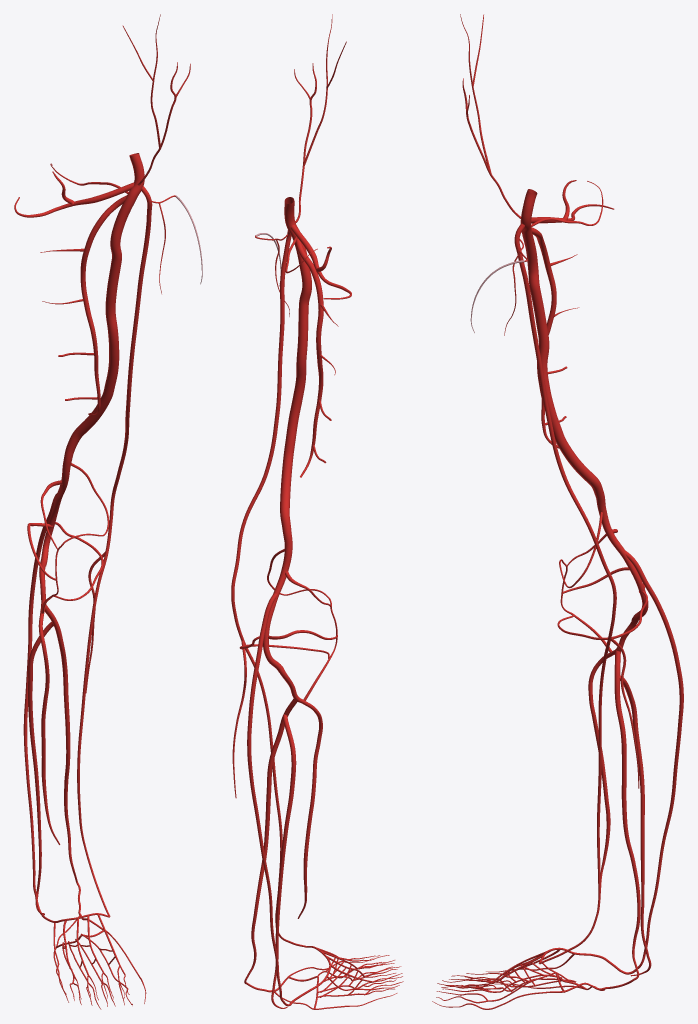
The model's file is circulatorio-femoral-vein-r.glb.
3 views of the same model, side by side, from view 1: azimuth 30°, elevation 25°; view 2: azimuth 150°, elevation 25°; view 3: azimuth 270°, elevation 25° (orthographic). The views are drawn at different scales.
Visible parts, largest first — view 1: Great saphenous vein.r, Femoral vein.r, Small saphenous vein.r, Posterior tibial veins.r, Genicular veins.r, Deep femoral vein.r, Anterior tibial veins.r, Fibular veins.r, Popliteal vein.r, Superficial epigastric vein.r, Lateral circumflex femoral veins.r, Dorsal metatarsal veins.r (+1 smaller); view 2: Great saphenous vein.r, Femoral vein.r, Small saphenous vein.r, Posterior tibial veins.r, Fibular veins.r, Deep femoral vein.r, Genicular veins.r, Popliteal vein.r, Anterior tibial veins.r, Superficial epigastric vein.r, Lateral circumflex femoral veins.r, Plantar digital veins.r (+1 smaller); view 3: Great saphenous vein.r, Femoral vein.r, Small saphenous vein.r, Posterior tibial veins.r, Fibular veins.r, Genicular veins.r, Anterior tibial veins.r, Popliteal vein.r, Superficial epigastric vein.r, Deep femoral vein.r, Plantar digital veins.r.
Boxes of the visible parts, x1,y1,x2,y2 form: Great saphenous vein.r: [77, 186, 152, 916]; Femoral vein.r: [78, 153, 144, 433]; Small saphenous vein.r: [23, 493, 56, 915]; Posterior tibial veins.r: [45, 604, 80, 914]; Genicular veins.r: [27, 463, 109, 613]; Deep femoral vein.r: [80, 195, 126, 415]; Anterior tibial veins.r: [38, 565, 60, 844]; Fibular veins.r: [28, 621, 53, 911]; Popliteal vein.r: [40, 426, 84, 565]; Superficial epigastric vein.r: [122, 14, 190, 185]; Lateral circumflex femoral veins.r: [14, 171, 134, 217]; Dorsal metatarsal veins.r: [53, 913, 120, 976]; Great saphenous vein.r: [231, 230, 306, 947]; Femoral vein.r: [280, 197, 311, 508]; Small saphenous vein.r: [247, 593, 309, 1006]; Posterior tibial veins.r: [244, 698, 297, 992]; Fibular veins.r: [271, 714, 296, 1008]; Deep femoral vein.r: [295, 238, 323, 477]; Genicular veins.r: [239, 549, 337, 701]; Popliteal vein.r: [263, 507, 292, 672]; Anterior tibial veins.r: [279, 670, 322, 918]; Superficial epigastric vein.r: [294, 14, 346, 222]; Lateral circumflex femoral veins.r: [291, 225, 351, 299]; Plantar digital veins.r: [314, 958, 403, 1009]; Great saphenous vein.r: [514, 223, 639, 964]; Femoral vein.r: [520, 189, 594, 482]; Small saphenous vein.r: [605, 550, 683, 974]; Posterior tibial veins.r: [607, 650, 640, 988]; Fibular veins.r: [619, 675, 651, 976]; Genicular veins.r: [557, 512, 647, 652]; Anterior tibial veins.r: [588, 621, 636, 891]; Popliteal vein.r: [588, 476, 648, 623]; Superficial epigastric vein.r: [460, 14, 520, 218]; Deep femoral vein.r: [531, 227, 559, 448]; Plantar digital veins.r: [432, 979, 584, 1009].
Bounding box in the file's own units: 0.1474 × 1.06 × 0.2404.
